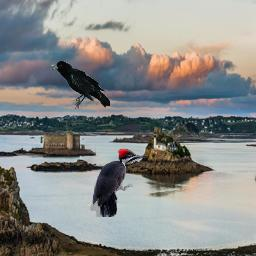Crow: (50, 61, 110, 109)
Woodpecker: (90, 148, 149, 217)
